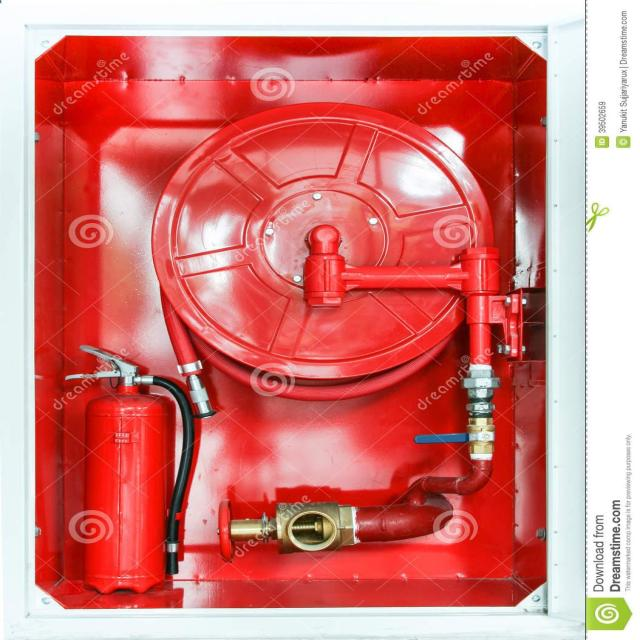fire_extinguisher: (59, 340, 201, 596)
